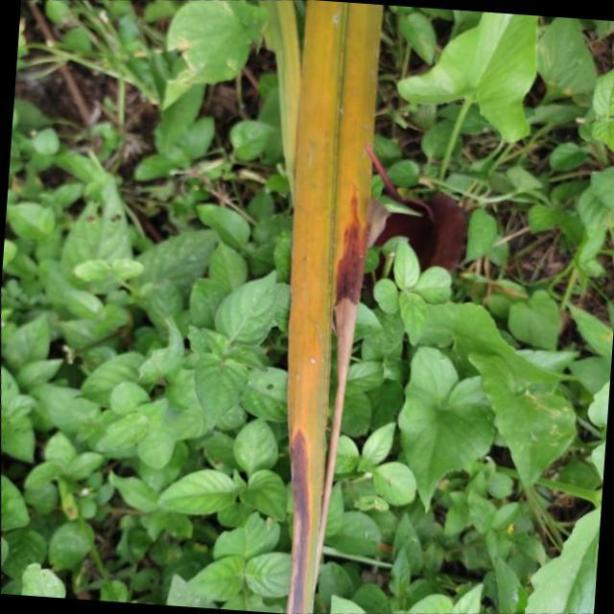Megnesium: (283, 0, 385, 614)
